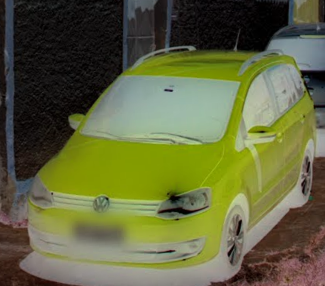car: (28, 48, 317, 281)
